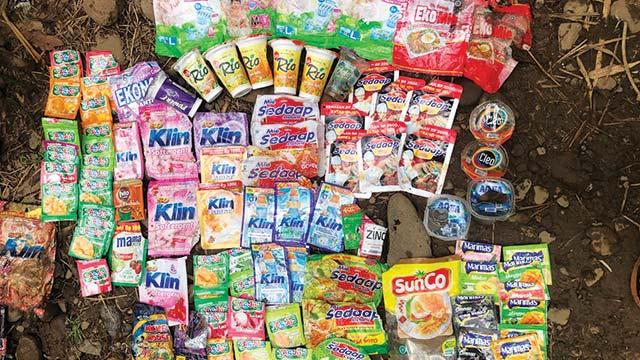PP: (423, 195, 474, 243), (235, 32, 276, 90), (467, 176, 517, 223), (299, 44, 339, 101), (467, 98, 515, 145), (267, 36, 304, 95), (459, 139, 512, 179)
